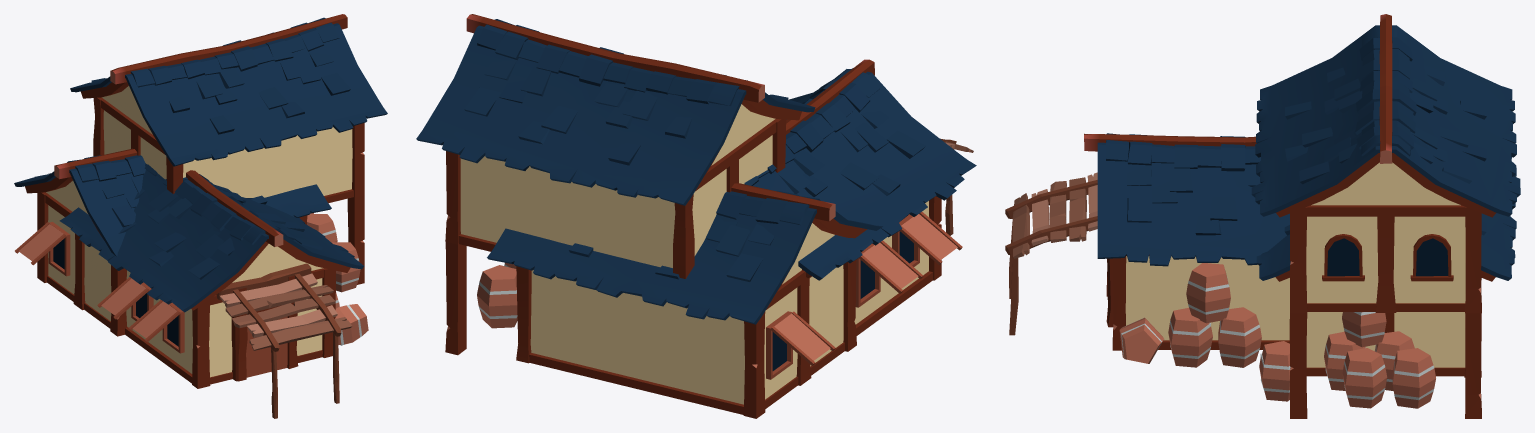
Rendered from SM_Tavern_LODS_Group.fbx.
3 renders of one model, left to right at view 1: azimuth 30°, elevation 25°; view 2: azimuth 150°, elevation 25°; view 3: azimuth 270°, elevation 25°, orthographic. The views are drawn at different scales.
Visible parts, largest first — view 1: SM_Tavern_LOD0; view 2: SM_Tavern_LOD0; view 3: SM_Tavern_LOD0.
Boxes of the visible parts, x1,y1,x2,y2 form: SM_Tavern_LOD0: [14, 14, 387, 418]; SM_Tavern_LOD0: [416, 14, 976, 418]; SM_Tavern_LOD0: [1005, 14, 1520, 418].
Bounding box in the file's own units: 452 × 557 × 337.
